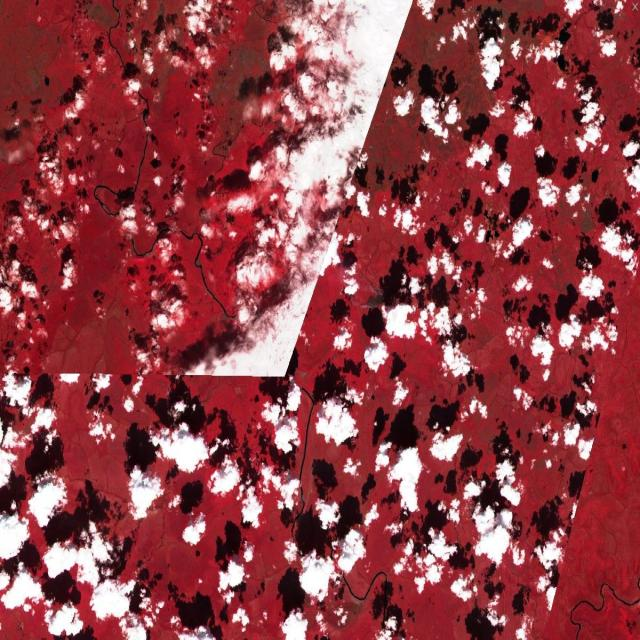fire: (361, 282, 392, 314)
